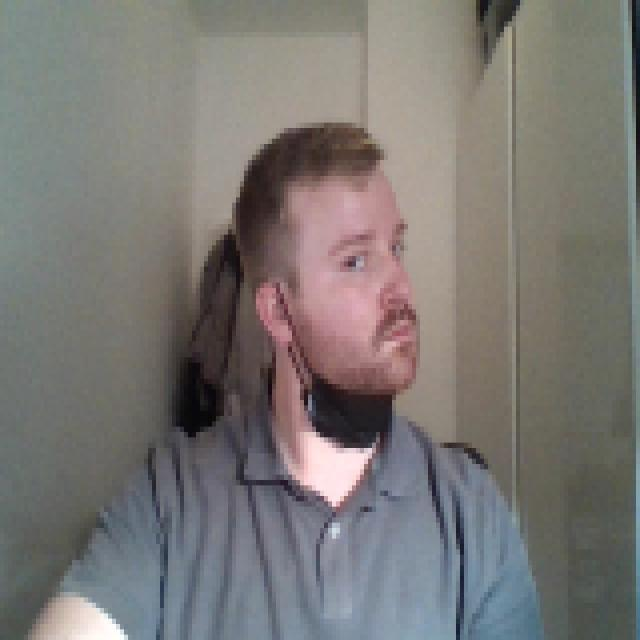hairnet: (248, 272, 420, 454)
